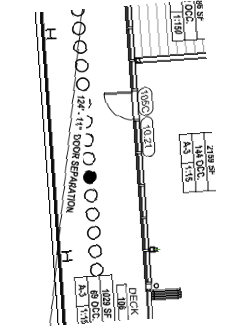door: (98, 87, 144, 124)
